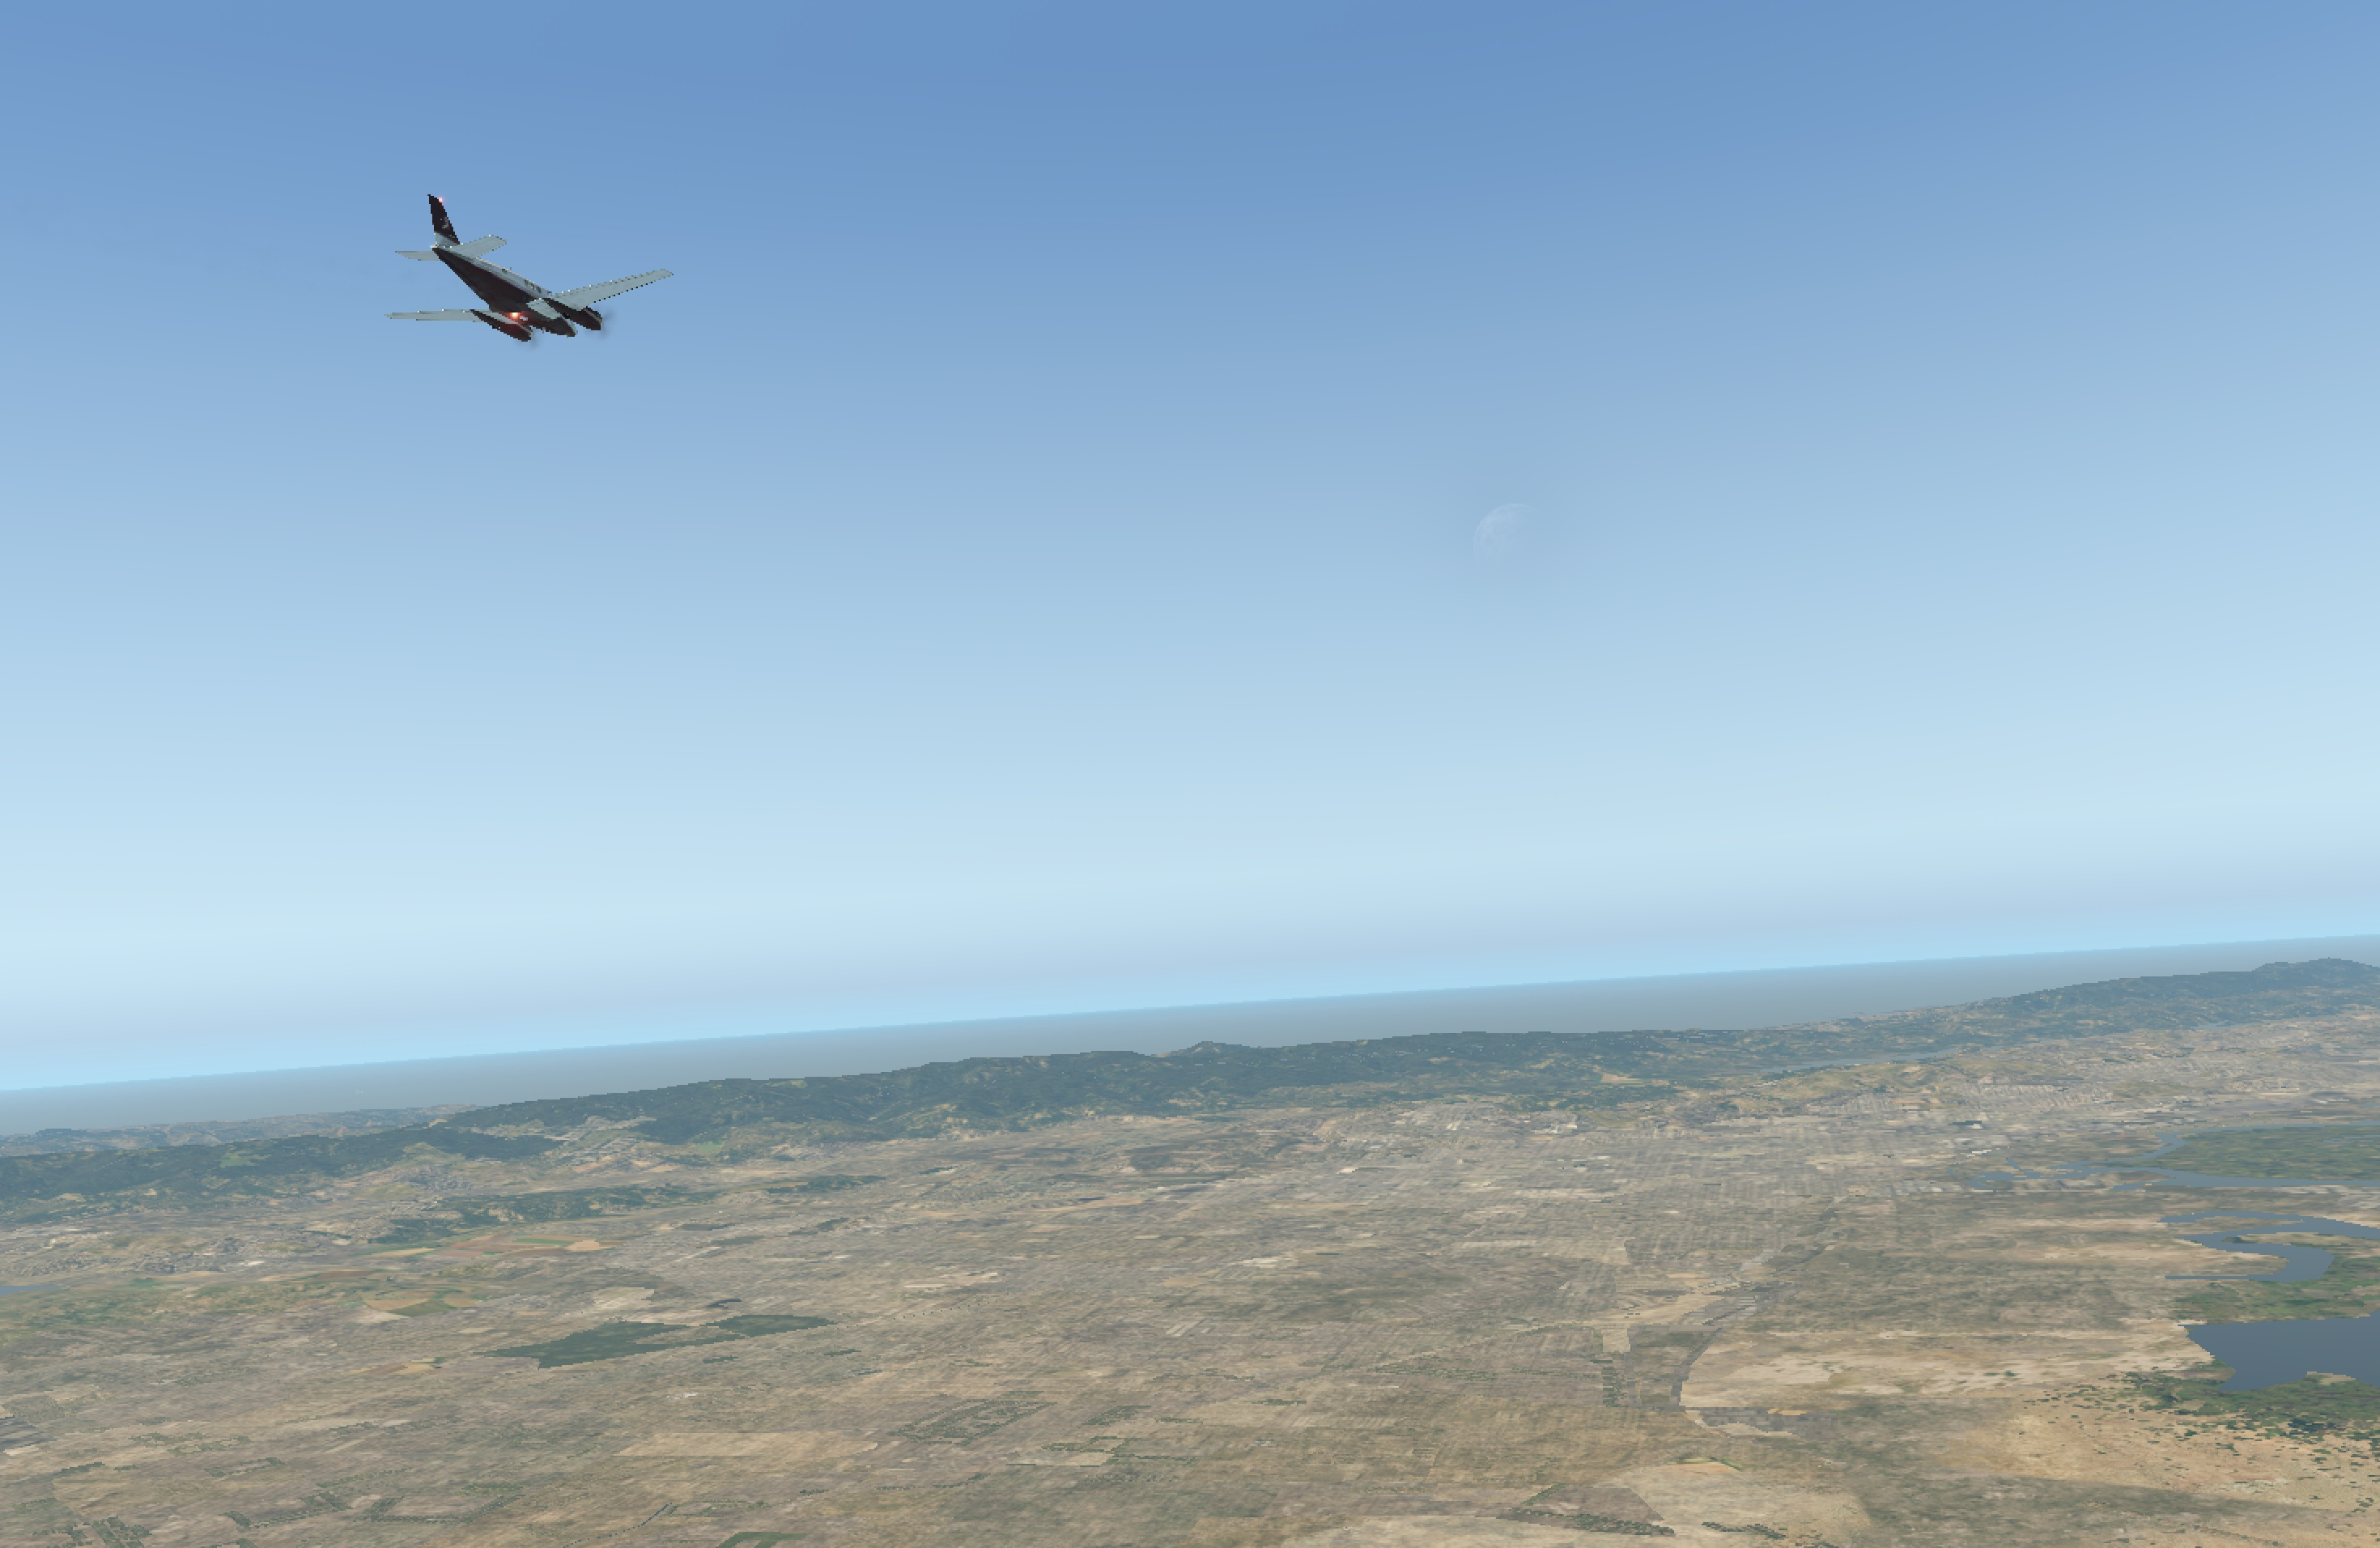aircraft: (375, 260, 687, 377)
